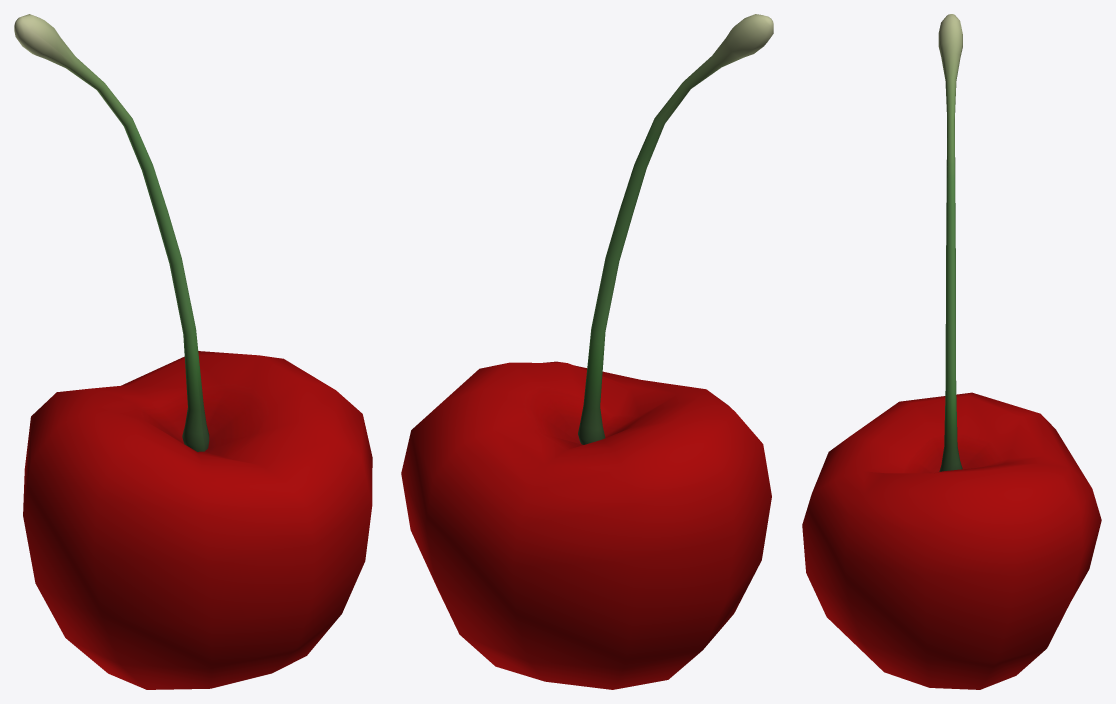
File: cherry4.fbx
3 renders of one model, left to right at view 1: azimuth 30°, elevation 25°; view 2: azimuth 150°, elevation 25°; view 3: azimuth 270°, elevation 25°, orthographic. The views are drawn at different scales.
Parts seen in each view (by area): view 1: Cherry_A; view 2: Cherry_A; view 3: Cherry_A.
Part boxes in pixels (x1,y1,x2,y2): Cherry_A: (14, 14, 372, 689); Cherry_A: (401, 14, 773, 689); Cherry_A: (802, 14, 1101, 689).
Size of the model in its own units: 185 by 358 by 168.
